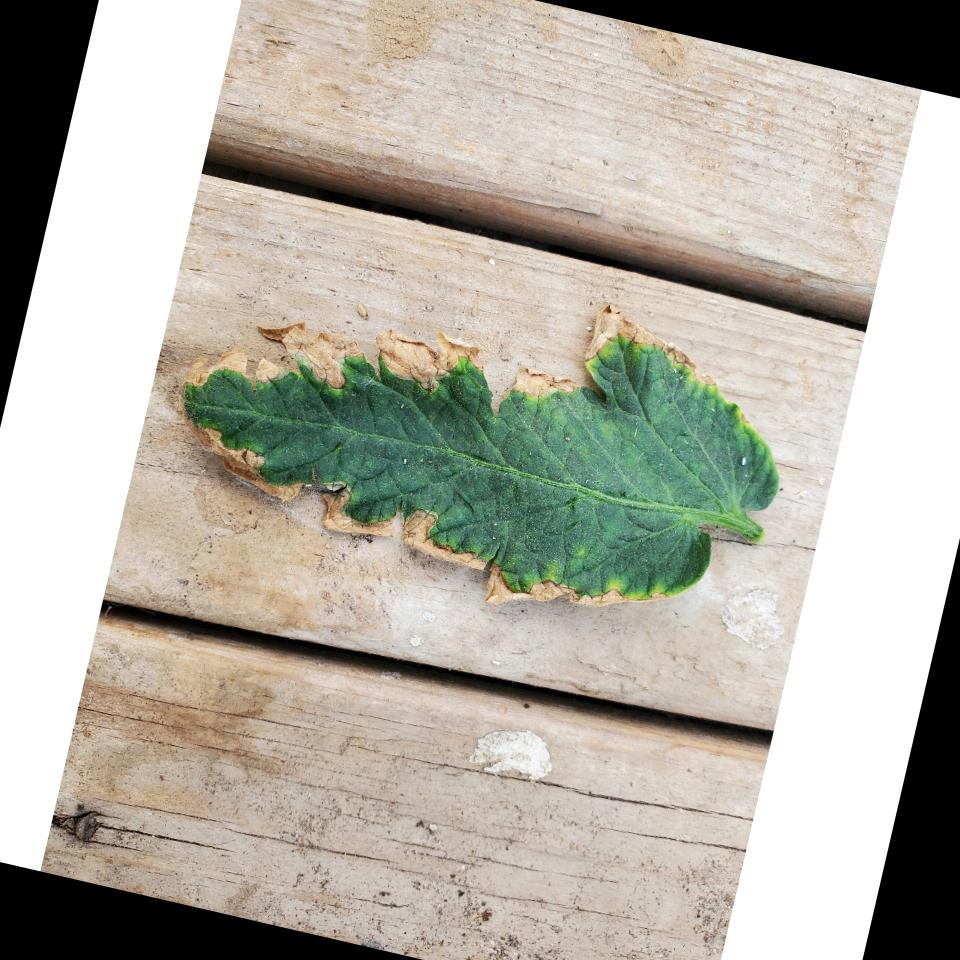tomato_bacterial_blight: (143, 211, 822, 664)
